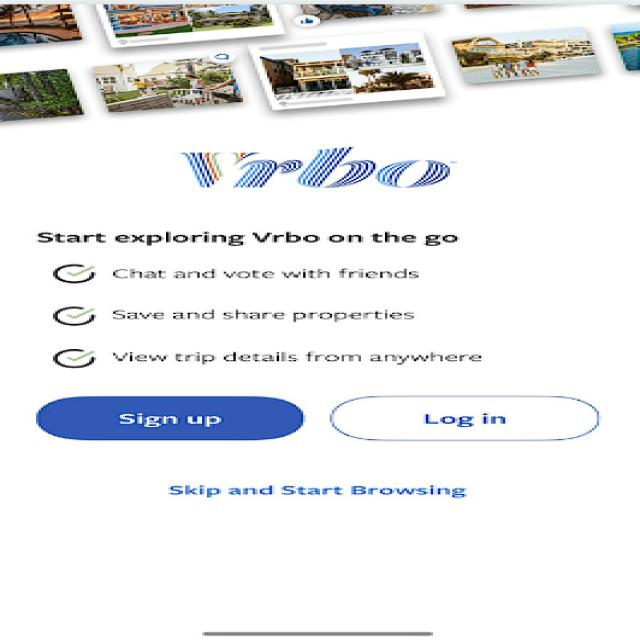button: (16, 393, 326, 445), (328, 393, 614, 445)
image: (0, 0, 640, 124)
text: (13, 212, 631, 377), (142, 475, 489, 505)
